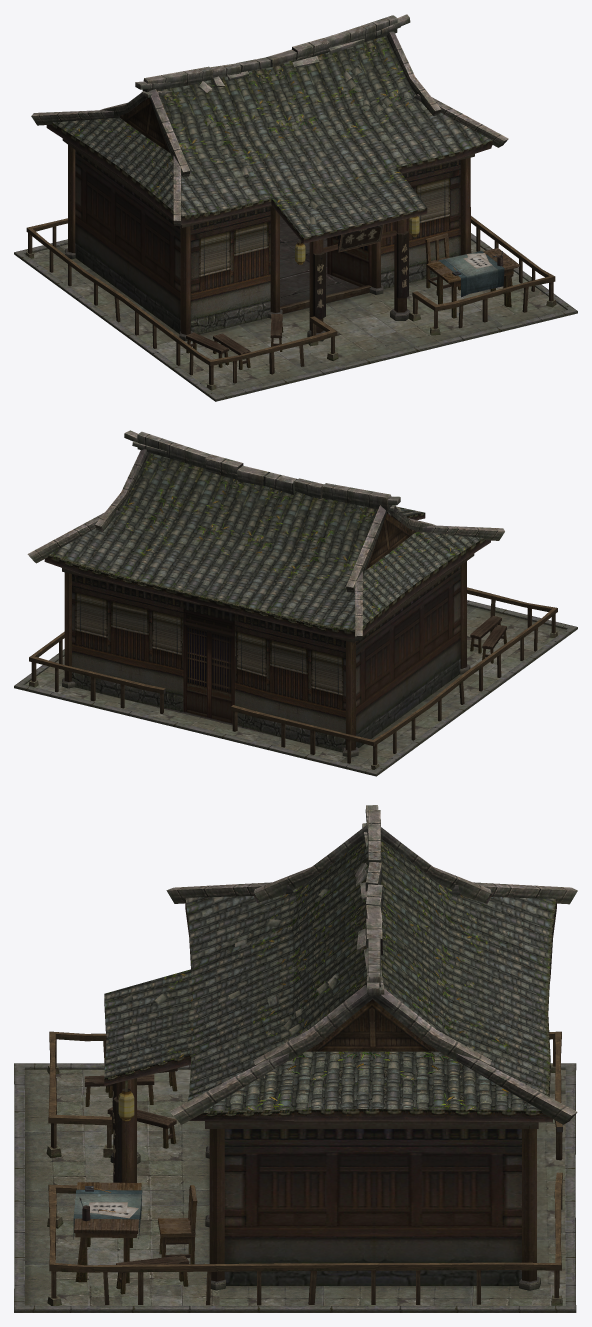
The model's file is jiebai_fangzi01.FBX.
3 views of the same model, one above another, from view 1: azimuth 30°, elevation 25°; view 2: azimuth 150°, elevation 25°; view 3: azimuth 270°, elevation 25° (orthographic). The views are drawn at different scales.
Parts seen in each view (by area): view 1: jiebai_fangzi01; view 2: jiebai_fangzi01; view 3: jiebai_fangzi01.
Boxes of the visible parts, x1,y1,x2,y2 form: jiebai_fangzi01: (14,14,577,401); jiebai_fangzi01: (14,430,577,776); jiebai_fangzi01: (14,805,577,1312).
Bounding box in the file's own units: 961 × 554 × 929.
